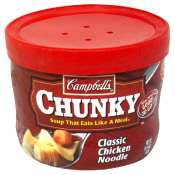grozi_111: (5, 4, 170, 170)
